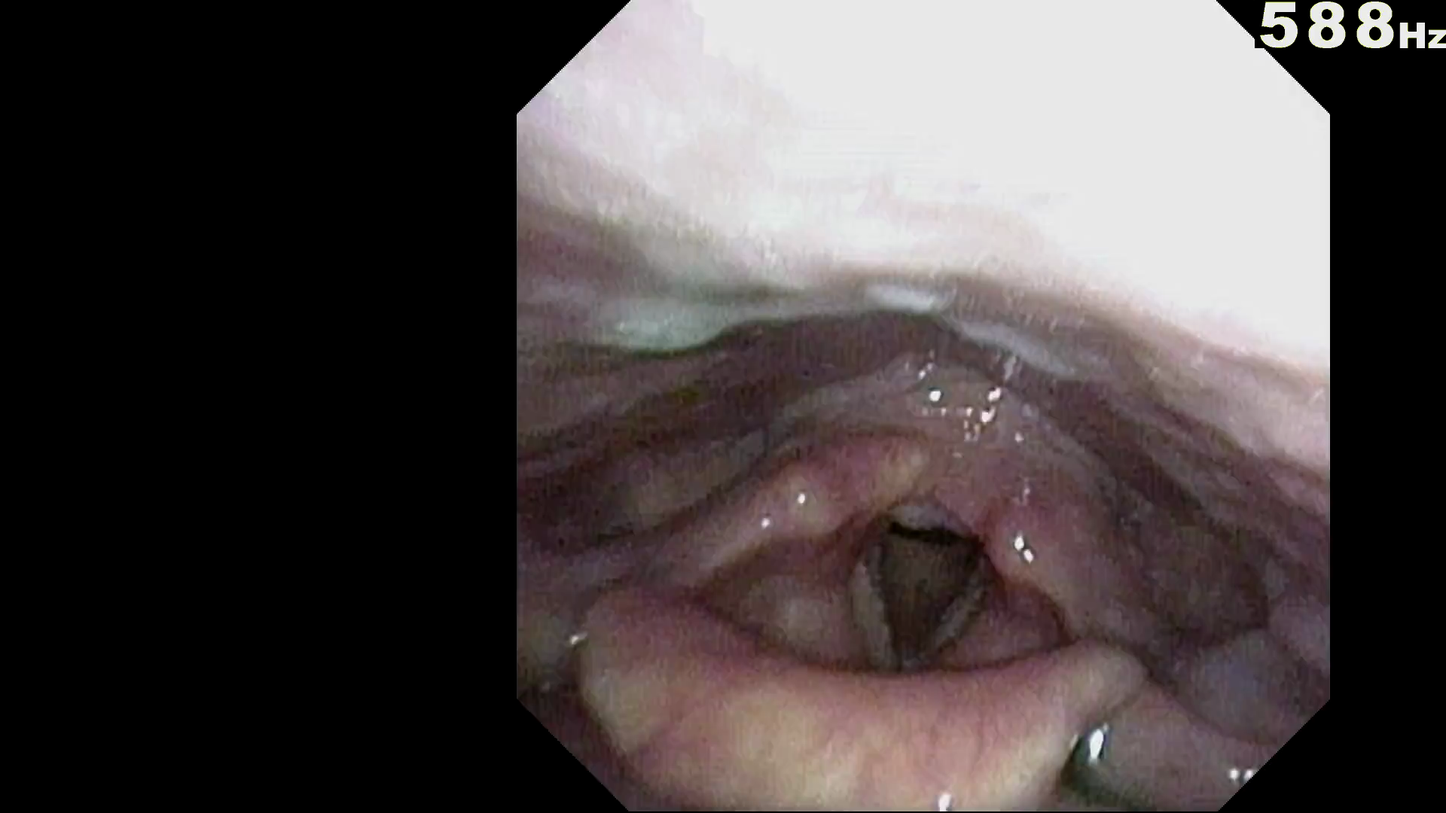trachea: (866, 516, 991, 670)
